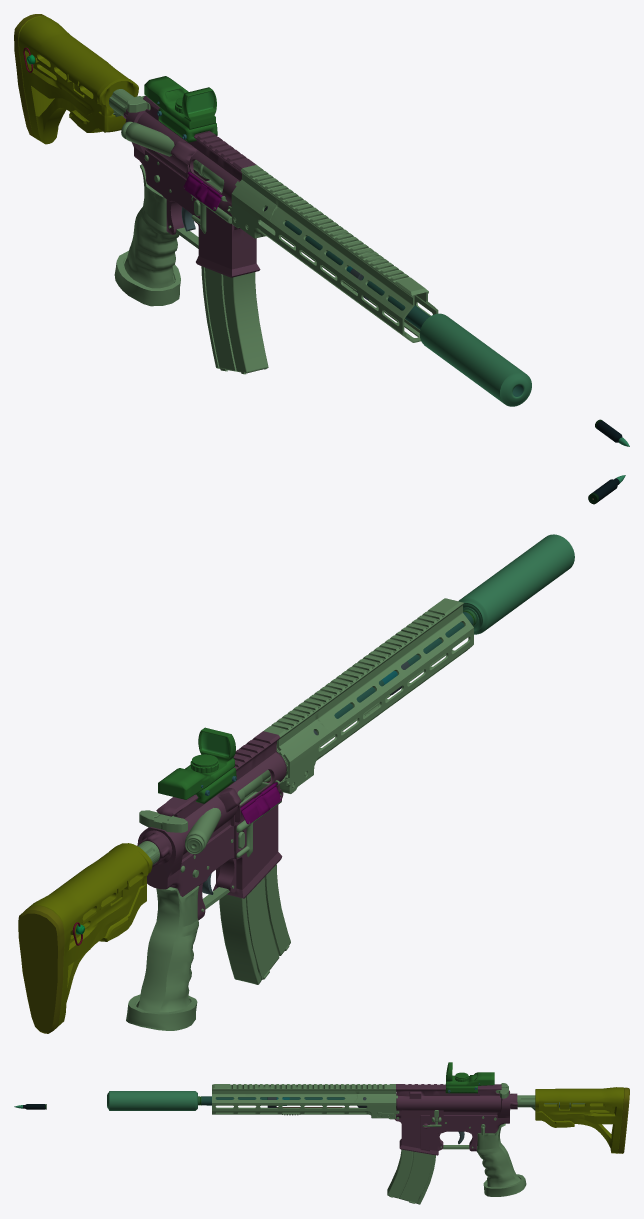
The model's file is M4A1S DESERT.fbx.
3 renders of one model, top to bottom at view 1: azimuth 30°, elevation 25°; view 2: azimuth 150°, elevation 25°; view 3: azimuth 270°, elevation 25°, orthographic. The views are drawn at different scales.
Visible parts, largest first — view 1: URGI Kit.004, Buttstock F.A.B GL_SHOCK CP.001, Reciever.bot.002, Barrel 10.002, 30Rnd Stanag Mag.003, Grip.002, MRS RED SIGHT.011, Steel Bolt Carrier.007, HATCH.001; view 2: Buttstock F.A.B GL_SHOCK CP.001, URGI Kit.004, Reciever.bot.002, Grip.002, Barrel 10.002, 30Rnd Stanag Mag.003, MRS RED SIGHT.011, HATCH.001, Charging Handle.001; view 3: Reciever.bot.002, URGI Kit.004, Buttstock F.A.B GL_SHOCK CP.001, Barrel 10.002, Grip.002, 30Rnd Stanag Mag.003, MRS RED SIGHT.011, Cylinder.
Part boxes in pixels (<box>): URGI Kit.004: <box>228,165,438,342</box>; Buttstock F.A.B GL_SHOCK CP.001: <box>14,14,138,144</box>; Reciever.bot.002: <box>123,96,260,277</box>; Barrel 10.002: <box>264,206,531,406</box>; 30Rnd Stanag Mag.003: <box>201,180,268,374</box>; Grip.002: <box>114,164,180,306</box>; MRS RED SIGHT.011: <box>144,76,217,142</box>; Steel Bolt Carrier.007: <box>125,122,174,156</box>; HATCH.001: <box>183,172,222,210</box>; Buttstock F.A.B GL_SHOCK CP.001: <box>18,843,152,1033</box>; URGI Kit.004: <box>263,598,473,793</box>; Reciever.bot.002: <box>137,731,286,920</box>; Grip.002: <box>126,886,199,1030</box>; Barrel 10.002: <box>266,534,574,782</box>; 30Rnd Stanag Mag.003: <box>219,782,290,984</box>; MRS RED SIGHT.011: <box>158,727,236,803</box>; HATCH.001: <box>240,782,281,824</box>; Charging Handle.001: <box>139,810,187,832</box>; Reciever.bot.002: <box>394,1084,517,1155</box>; URGI Kit.004: <box>212,1084,399,1119</box>; Buttstock F.A.B GL_SHOCK CP.001: <box>535,1087,629,1153</box>; Barrel 10.002: <box>107,1091,367,1110</box>; Grip.002: <box>477,1123,526,1196</box>; 30Rnd Stanag Mag.003: <box>387,1149,435,1204</box>; MRS RED SIGHT.011: <box>445,1062,494,1093</box>; Cylinder: <box>517,1095,584,1110</box>.
Size of the model in its own units: 376 by 1462 by 5991.
